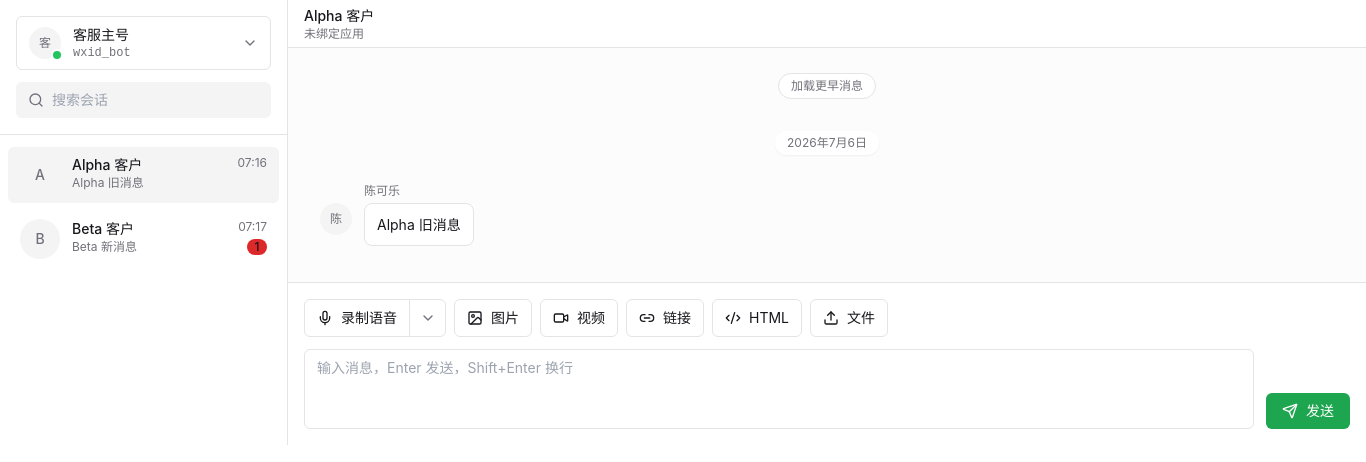
Test: WorkbenchPage realtime events › 其他会话收到 SSE 消息时更新左侧摘要并显示未读点，切换过去后清零
This screenshot has width=1366, height=462.
Expected: the heading "Alpha 客户" is shown, [304,6,374,26]
Expected: the text "Beta 新消息" is shown, [72,239,137,254]
Click the button with aria-label "打开会话 Beta 客户" at (40, 239), box [8,211,279,267]
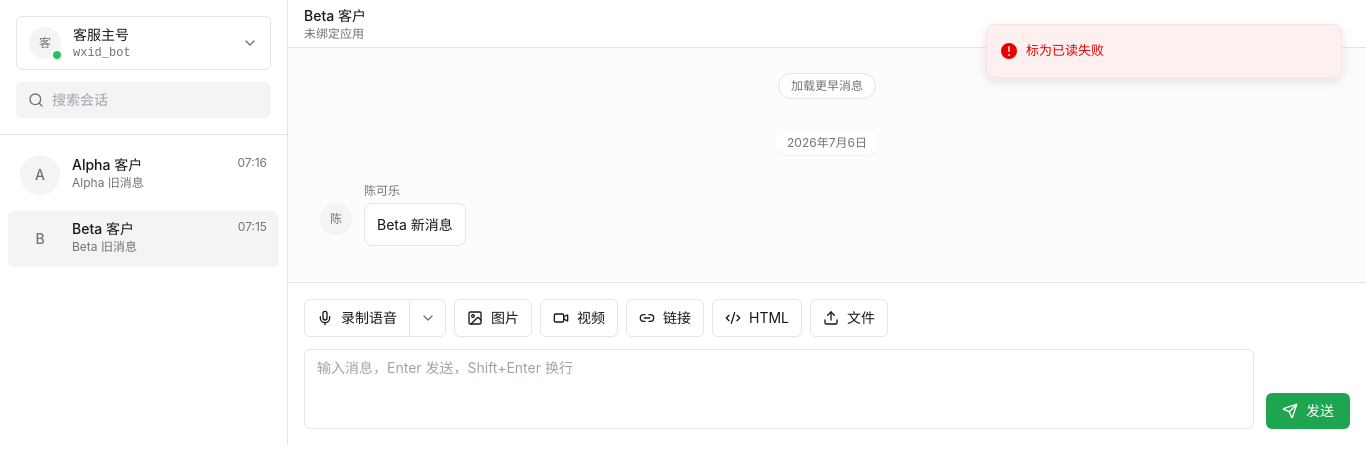
Result: the heading "Beta 客户" is shown at [304,6,366,26]
